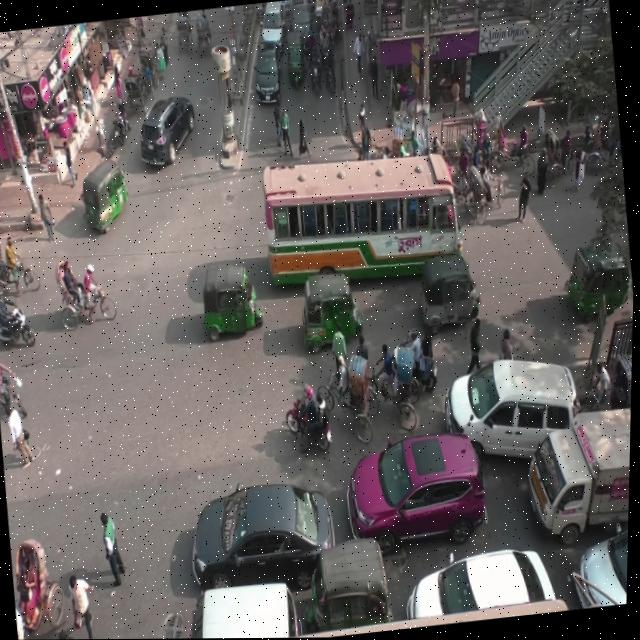cng: (285, 522, 402, 638), (182, 241, 280, 357), (550, 217, 636, 337), (410, 236, 482, 338), (294, 266, 372, 356), (71, 143, 136, 237), (280, 18, 316, 95)
rikshaw: (9, 522, 72, 640), (313, 340, 380, 449), (45, 254, 120, 342), (364, 345, 431, 442), (462, 155, 516, 235), (494, 104, 540, 185), (543, 115, 589, 185), (0, 230, 41, 290), (190, 8, 223, 67), (121, 54, 154, 112), (168, 10, 200, 50)
